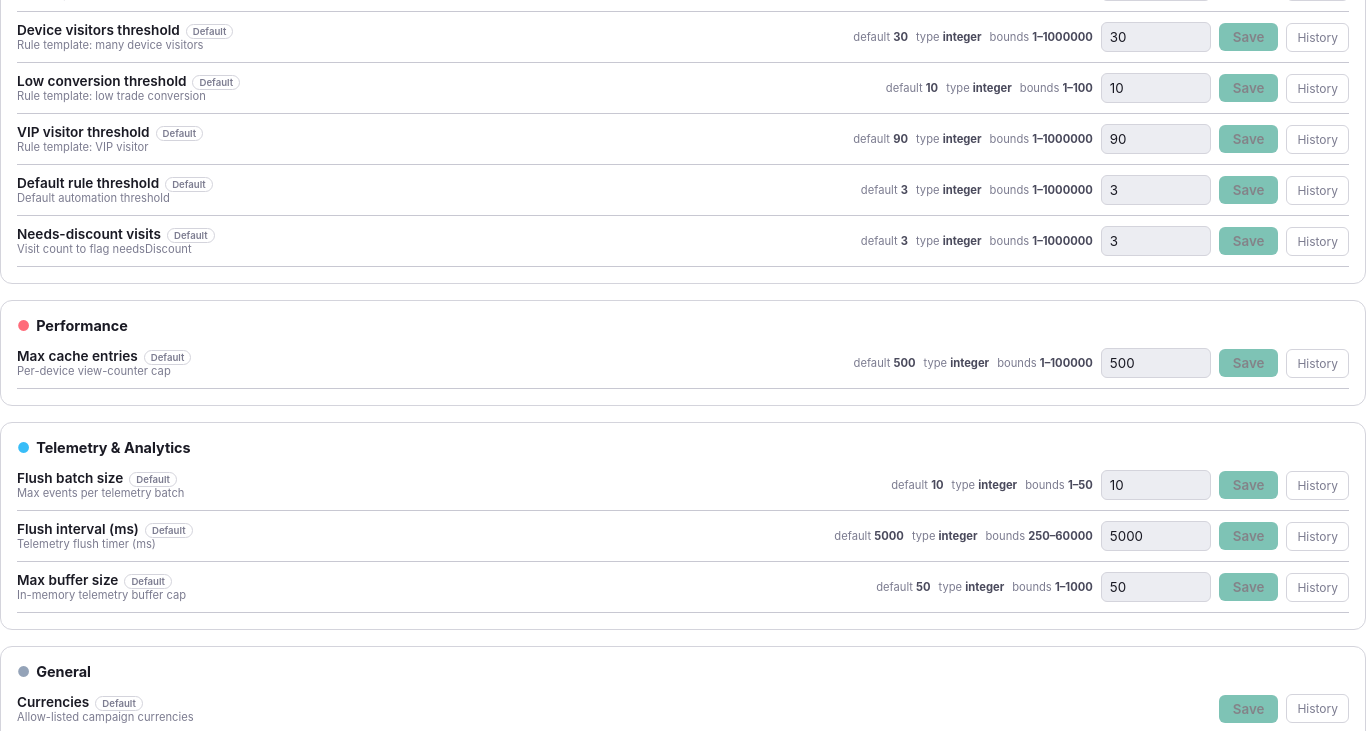
Test: AdminSettingsBI — Pass 2 (badges, real reset, confirmation, history, refresh) › History shows a role denial inline when the audit read is forbidden
The width and height of the screenshot is (1366, 731).
(page scrolled)
expect the text "Performance" is shown: met, box x1=36 y1=317 x2=128 y2=334
Click the button with test id "history-cache.max_entries": (1318, 363) x1=1286 y1=348 x2=1349 y2=378
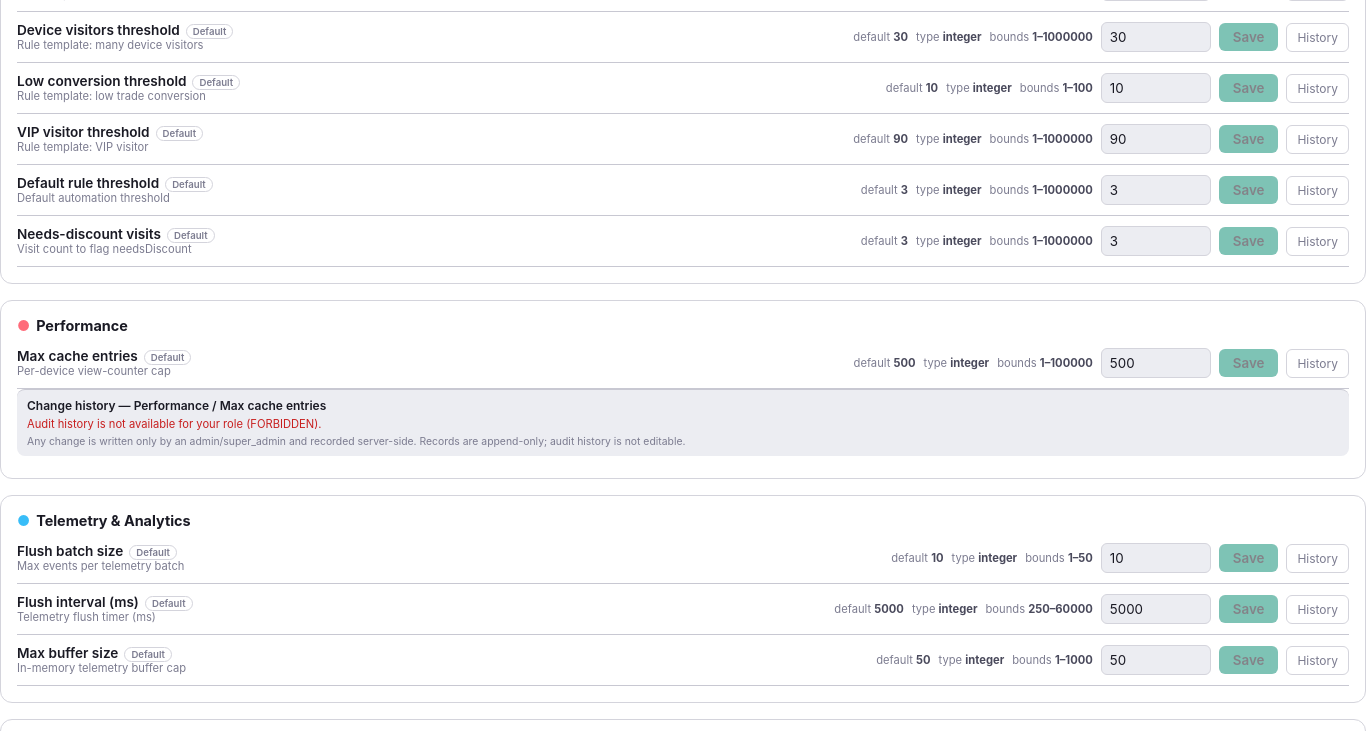
expect the text "Audit history is not available for your role (FORBIDDEN)." is shown: met, box x1=27 y1=417 x2=322 y2=431
